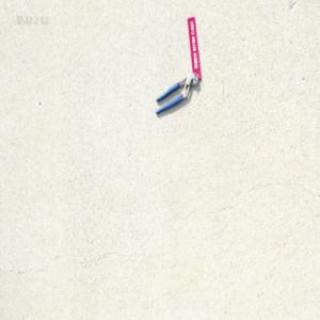LuggageTagtrack_idkeyframe: (185, 15, 201, 80)
Pliertrack_idkeyframe: (154, 70, 198, 116)
